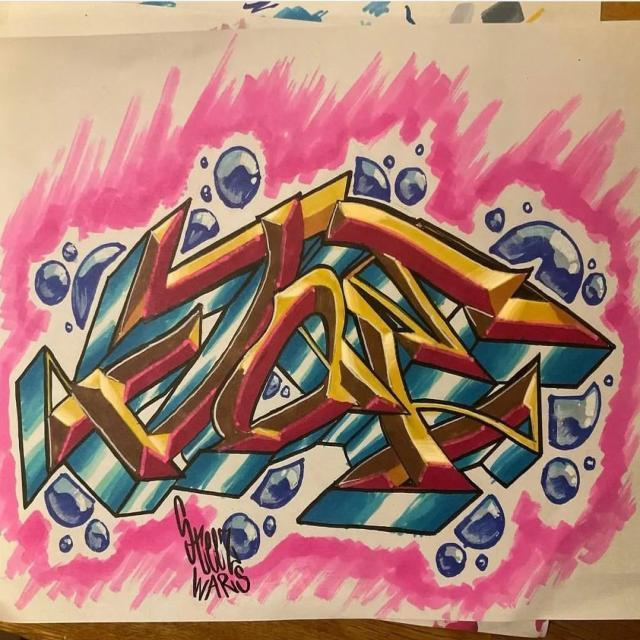-: (11, 132, 635, 610)
